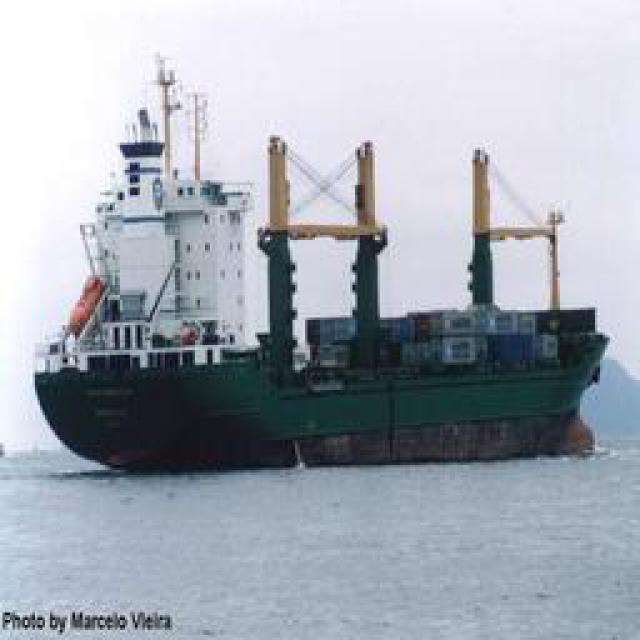Ship: (36, 78, 606, 476)
